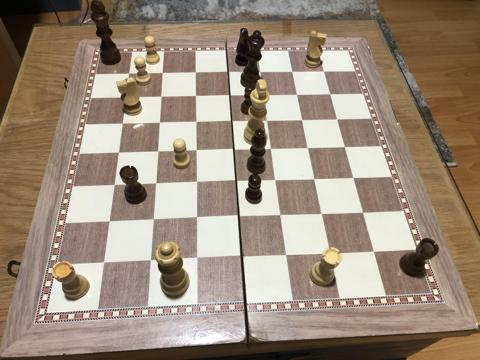xcorner: (155, 92, 168, 104), (120, 92, 133, 104), (297, 114, 309, 127), (339, 141, 351, 154), (303, 142, 315, 155), (266, 143, 278, 156), (152, 146, 164, 159), (113, 147, 125, 160), (347, 172, 360, 184), (149, 179, 162, 191), (318, 66, 330, 78), (287, 66, 299, 78), (255, 67, 267, 79), (223, 67, 235, 79), (190, 68, 202, 80), (157, 68, 169, 80), (124, 68, 136, 80), (325, 89, 337, 101), (292, 89, 304, 101), (258, 90, 270, 102), (224, 90, 236, 102), (190, 91, 202, 103), (331, 114, 343, 126), (262, 115, 274, 127), (226, 116, 238, 128), (190, 117, 202, 129), (154, 118, 166, 130), (117, 118, 129, 130), (228, 144, 240, 156), (190, 145, 202, 157), (309, 174, 321, 186), (270, 175, 282, 187), (230, 176, 242, 188), (190, 177, 202, 189), (108, 180, 120, 192), (357, 207, 369, 219), (316, 209, 328, 221), (275, 210, 287, 222), (233, 212, 245, 224), (190, 213, 202, 225), (147, 215, 159, 227), (103, 217, 115, 229), (368, 246, 380, 258), (324, 248, 336, 260), (280, 250, 292, 262), (236, 252, 248, 264), (190, 254, 202, 266), (144, 256, 156, 268), (97, 258, 109, 270)
